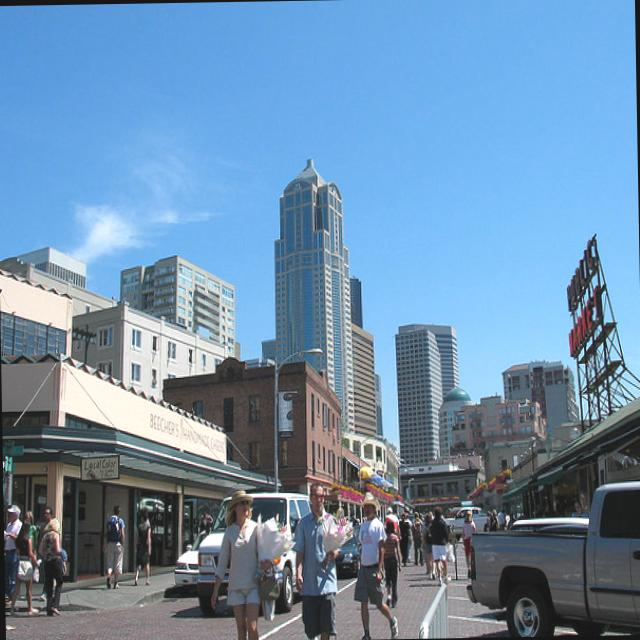Vehicle: (463, 479, 640, 637), (195, 490, 312, 614), (172, 528, 212, 586), (443, 507, 490, 537), (335, 527, 362, 578), (509, 516, 592, 532), (443, 506, 488, 534), (536, 524, 588, 534), (407, 514, 415, 523)
